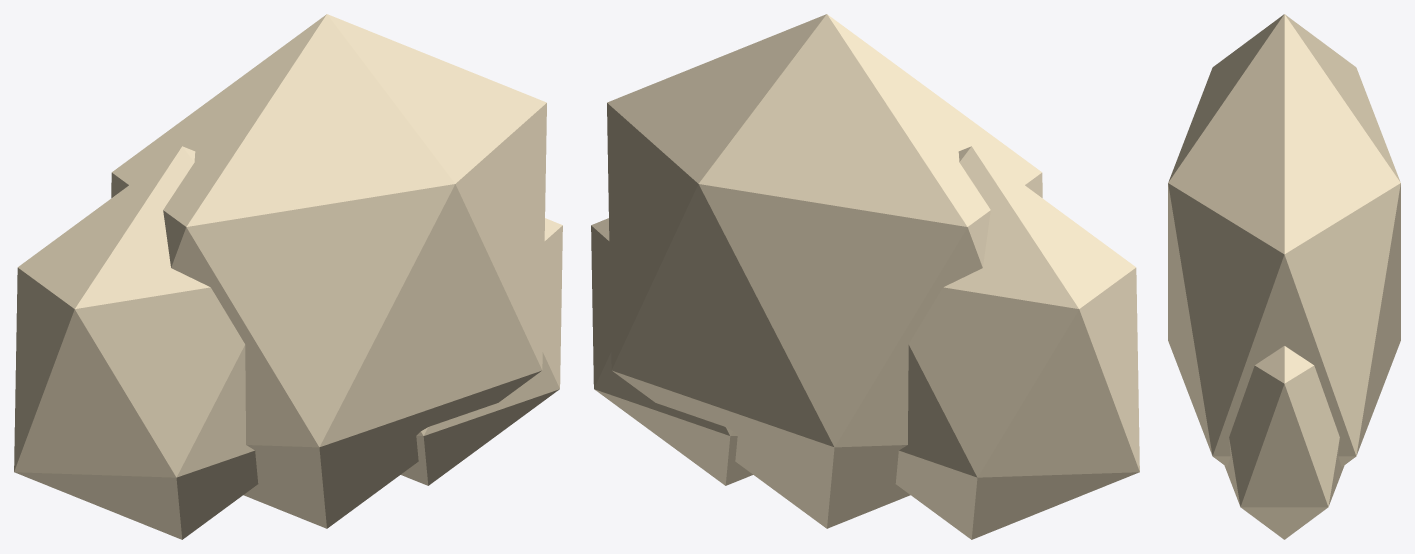
The model's file is common_steam_puff.glb.
3 views of the same model, side by side, from view 1: azimuth 30°, elevation 25°; view 2: azimuth 150°, elevation 25°; view 3: azimuth 270°, elevation 25° (orthographic). The views are drawn at different scales.
Parts seen in each view (by area): view 1: common_steam_puff__common-ivory; view 2: common_steam_puff__common-ivory; view 3: common_steam_puff__common-ivory.
Part boxes in pixels (x1,y1,x2,y2): common_steam_puff__common-ivory: (14, 14, 562, 539); common_steam_puff__common-ivory: (591, 14, 1139, 539); common_steam_puff__common-ivory: (1168, 14, 1400, 539).
Size of the model in its own units: 1.9 by 1.7 by 0.723.
